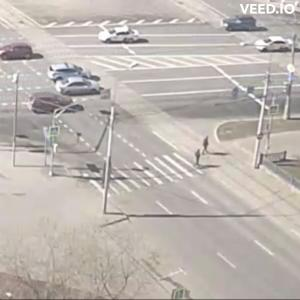car: (31, 91, 78, 116), (49, 62, 92, 85), (57, 79, 103, 98), (221, 16, 262, 35), (101, 30, 147, 45), (2, 43, 36, 62), (256, 38, 295, 54)
